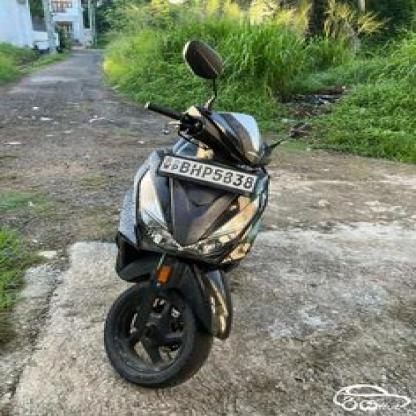bike front: (97, 31, 321, 387)
number plate: (158, 157, 264, 194)
